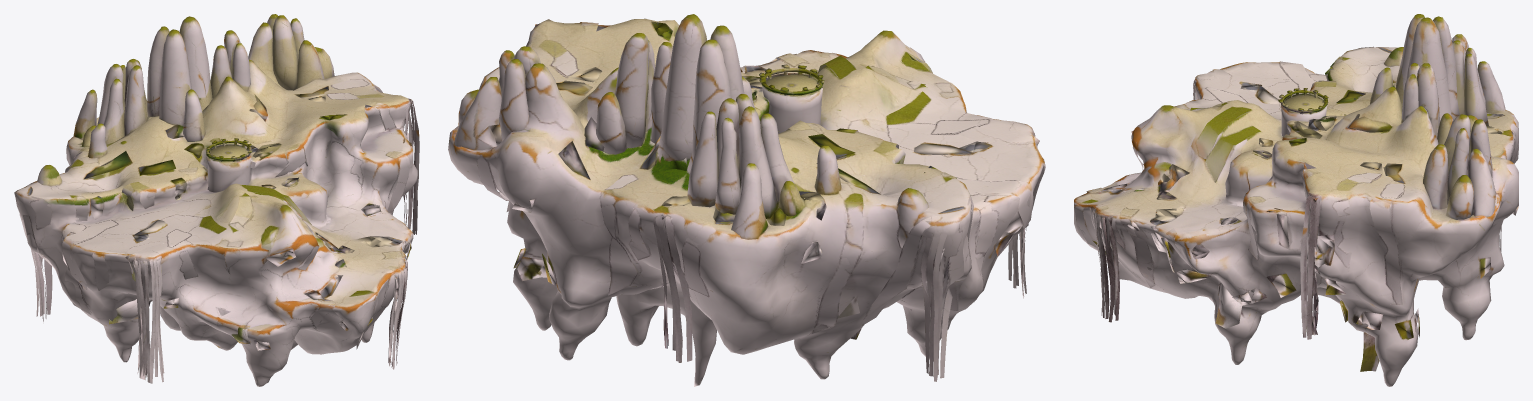
File: sanctuary-mesa.glb
3 renders of one model, left to right at view 1: azimuth 30°, elevation 25°; view 2: azimuth 150°, elevation 25°; view 3: azimuth 270°, elevation 25°, orthographic. The views are drawn at different scales.
Visible parts, largest first — view 1: sanctuary-mesa; view 2: sanctuary-mesa; view 3: sanctuary-mesa.
Boxes of the visible parts, x1=… form: sanctuary-mesa: x1=14, y1=14, x2=419, y2=386; sanctuary-mesa: x1=448, y1=14, x2=1045, y2=386; sanctuary-mesa: x1=1074, y1=14, x2=1518, y2=386.
Bounding box in the file's own units: 1 × 0.7923 × 1.
1 material, 1 textured.
